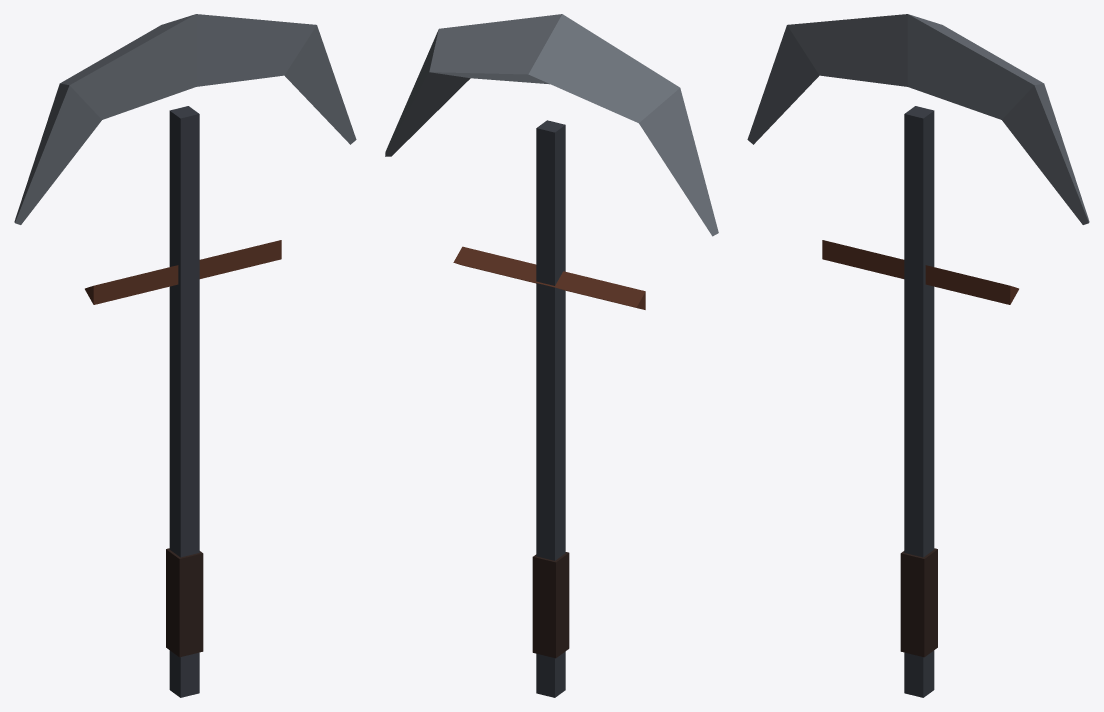
The model's file is SM_Prop_AnchorHammer_LQ.glb.
3 views of the same model, side by side, from view 1: azimuth 30°, elevation 25°; view 2: azimuth 150°, elevation 25°; view 3: azimuth 330°, elevation 25° (orthographic). The views are drawn at different scales.
Parts seen in each view (by area): view 1: SM_Prop_AnchorHammer_LQ; view 2: SM_Prop_AnchorHammer_LQ; view 3: SM_Prop_AnchorHammer_LQ.
Boxes of the visible parts, x1=… form: SM_Prop_AnchorHammer_LQ: x1=14, y1=14, x2=356, y2=697; SM_Prop_AnchorHammer_LQ: x1=385, y1=14, x2=718, y2=697; SM_Prop_AnchorHammer_LQ: x1=747, y1=14, x2=1089, y2=697.
Bounding box in the file's own units: 1.02 × 1.95 × 0.18.
1 material, 1 textured.
